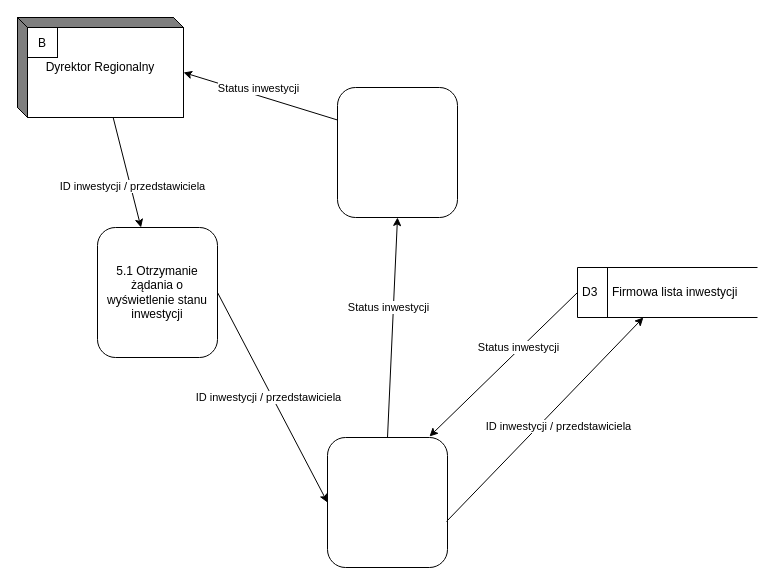
This 775x585 diagram has some shape labels left out. Here are the shapes that lost their labels. From the top down, the centre of each, then its label:
At pixel 397 152: "5.3 Zwrócenie statusu inwestycji".
At pixel 387 502: "5.2 Sprawdzenie stanu inwestycji".
